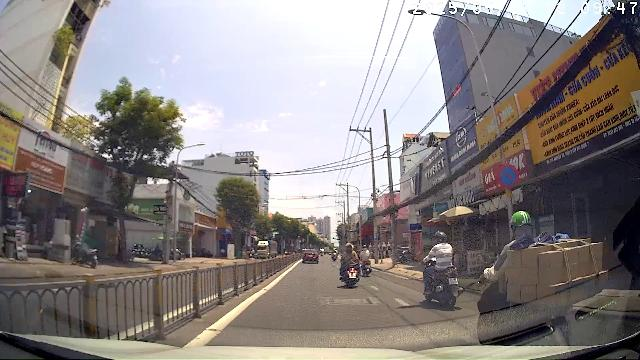131a-cam-do-xe: (496, 163, 520, 189)
